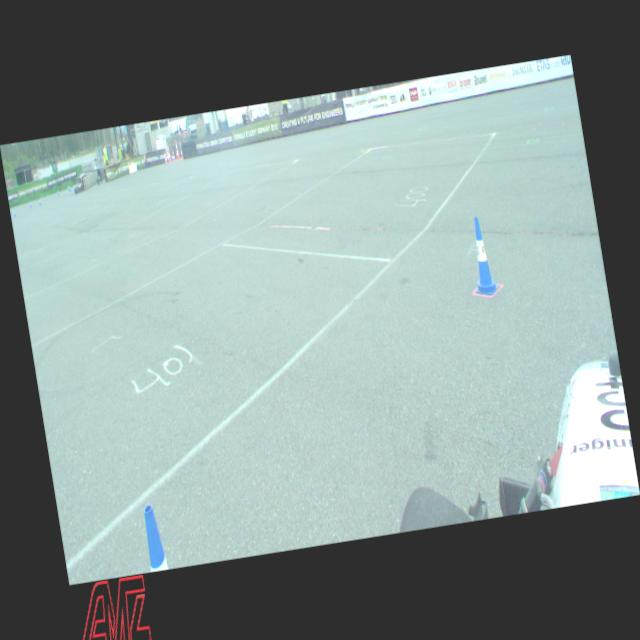blue_cone: (464, 215, 499, 298), (141, 503, 169, 572), (38, 198, 42, 206), (13, 208, 16, 218), (57, 189, 60, 196), (68, 184, 70, 192), (167, 154, 169, 162), (30, 201, 32, 208), (70, 185, 72, 192), (172, 154, 174, 161)
large_orange_cone: (174, 140, 180, 160), (178, 139, 184, 159), (167, 143, 172, 162), (172, 148, 176, 162), (164, 150, 168, 163)
